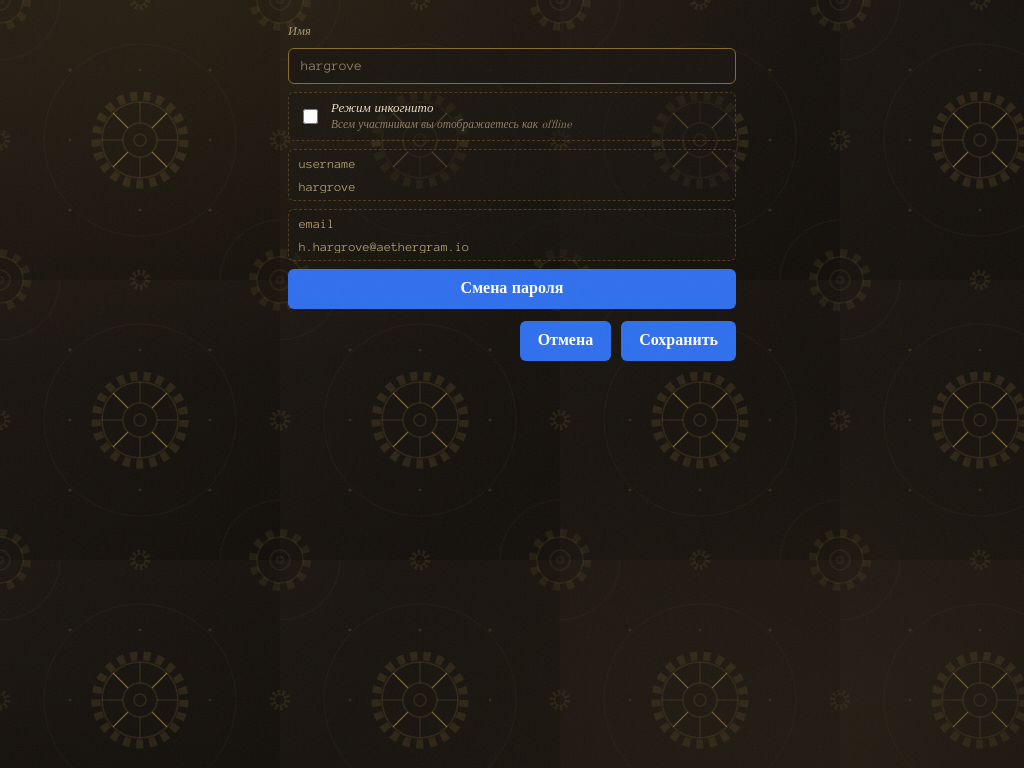
Test: ProfileModal › sends the edited name (№39) and toasts it before username (prototype submit)
Type "Мария" into the field labelled "Имя" at (512, 66), box [288,48,736,84]
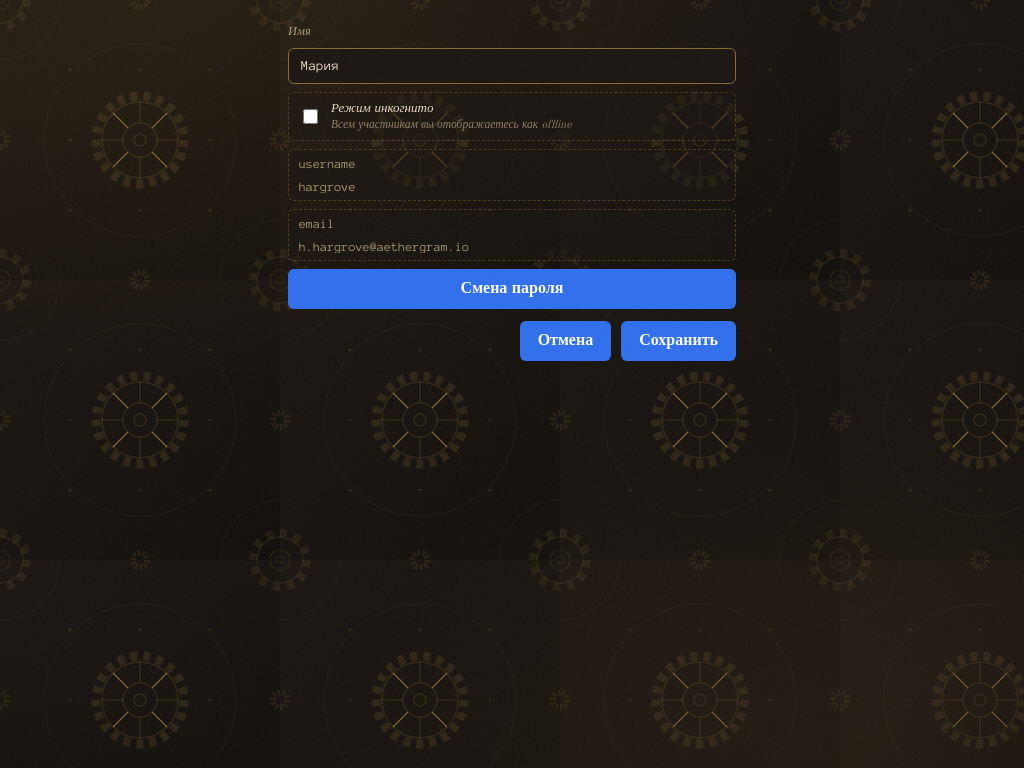
Click the button "Сохранить" at (679, 341), box [621,321,736,361]
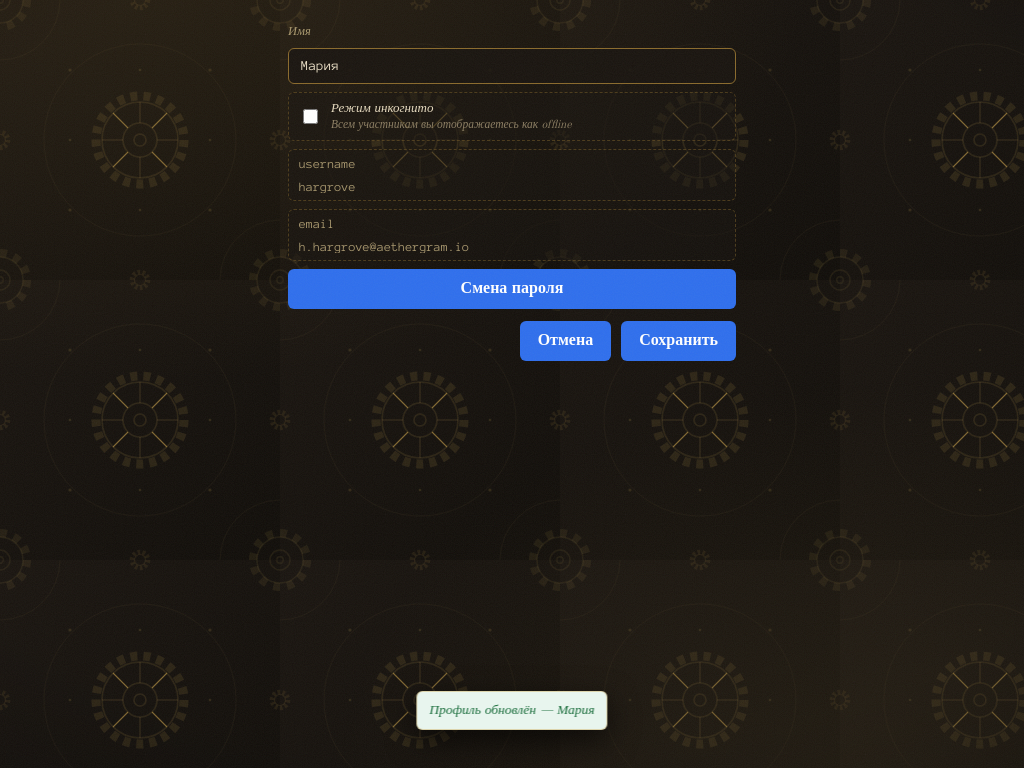
Result: the text "Профиль обновлён — Мария" is shown at [416,691,608,730]
